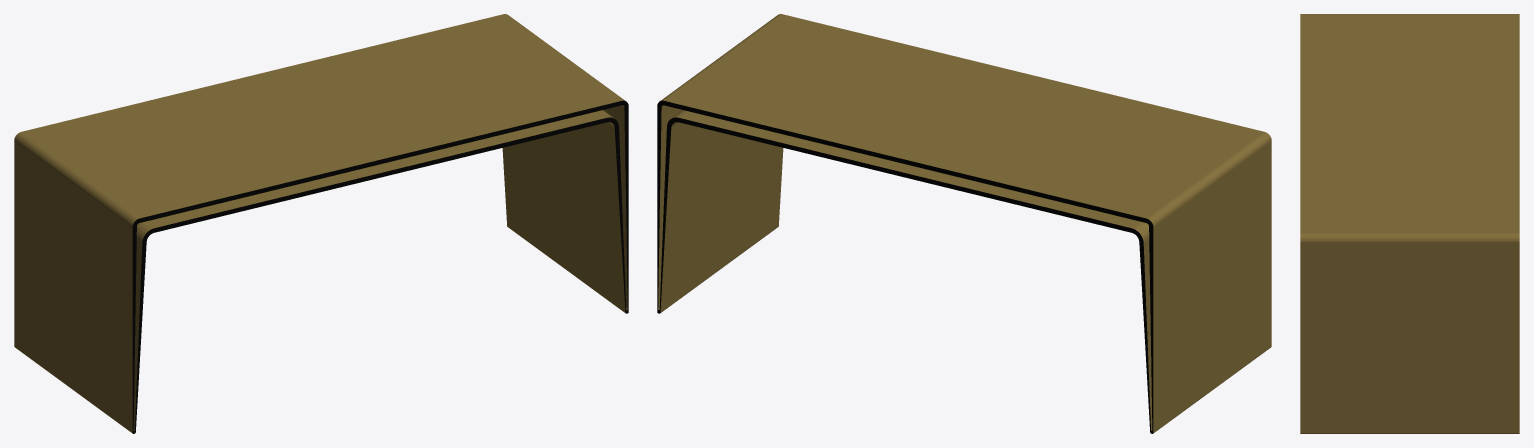
File: table.FBX
3 views of the same model, side by side, from view 1: azimuth 30°, elevation 25°; view 2: azimuth 150°, elevation 25°; view 3: azimuth 270°, elevation 25° (orthographic). The views are drawn at different scales.
Visible parts, largest first — view 1: Object002; view 2: Object002; view 3: Object002.
Part boxes in pixels (<box>): Object002: <box>14,14,628,433</box>; Object002: <box>657,14,1271,433</box>; Object002: <box>1300,14,1519,433</box>.
Size of the model in its own units: 17023 by 7018 by 7032.
